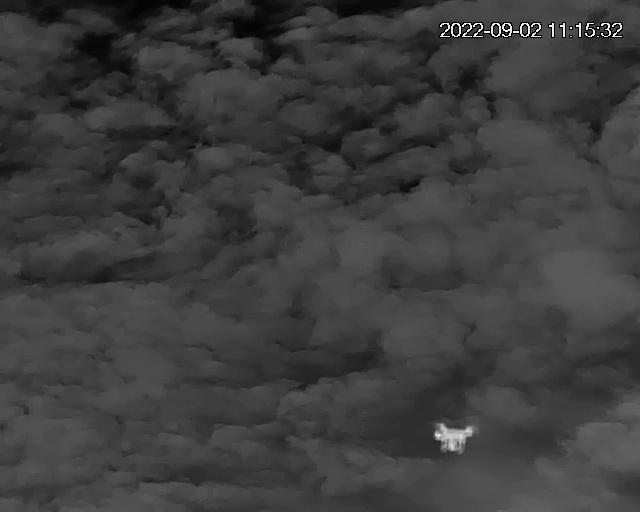DJI-Phantom: (432, 417, 478, 457)
